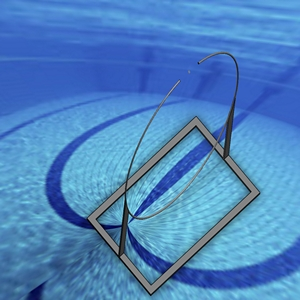circle: (85, 51, 261, 295)
